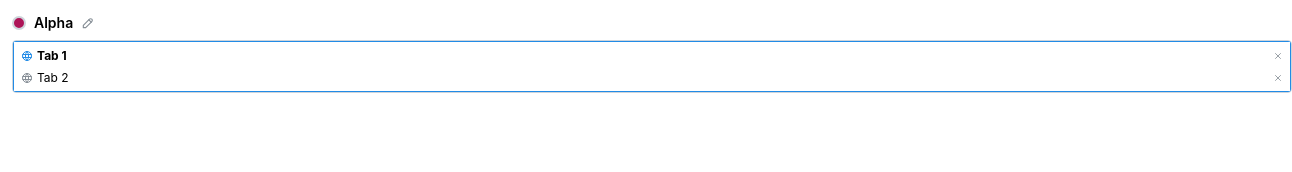
it: CmuxPanel › clears an earlier error after a successful action
Click the button with aria-label "Switch to Tab 2" at (53, 77), box [17,69,1267,88]
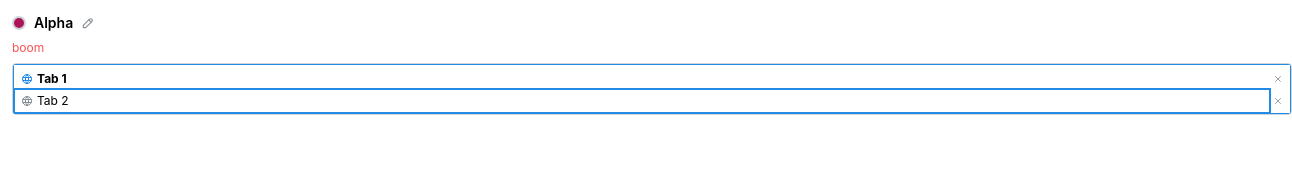
Check: the text "boom" is shown, box [12,40,44,55]
Click the button with aria-label "Switch to Tab 2" at (53, 100), box [17,92,1267,110]
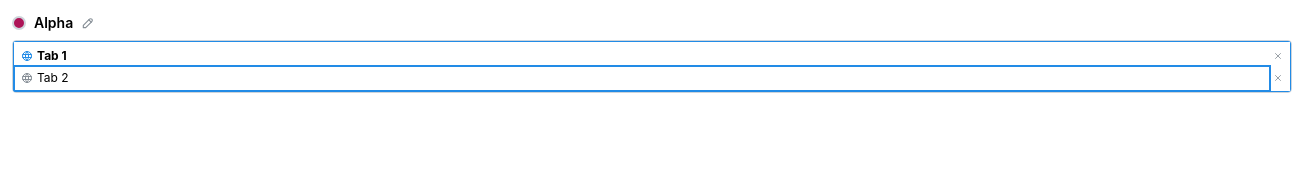
Check: the text "boom" is gone
